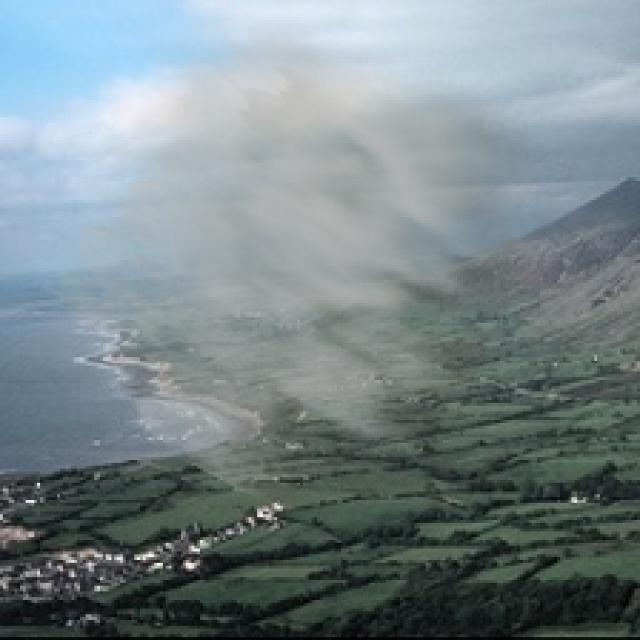smoke: (37, 3, 580, 520)
